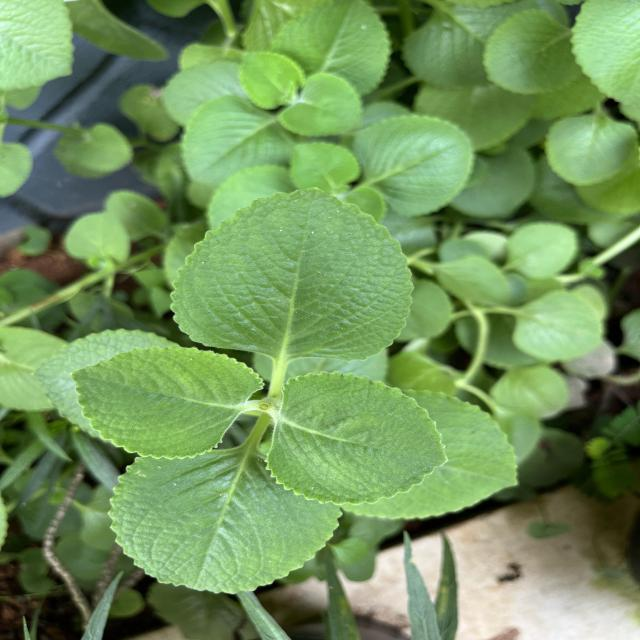Plectranthus barbatus: (168, 186, 415, 363), (106, 454, 344, 597), (263, 370, 450, 507), (70, 344, 266, 462), (352, 113, 476, 219), (272, 0, 392, 97), (180, 94, 292, 184), (481, 7, 584, 96), (542, 114, 636, 186), (277, 73, 365, 137)
